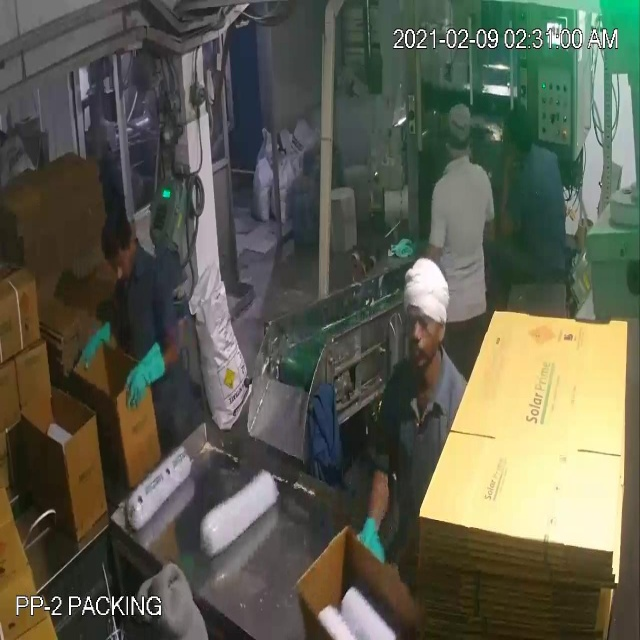Guantes: (117, 334, 180, 420), (71, 300, 117, 378)
